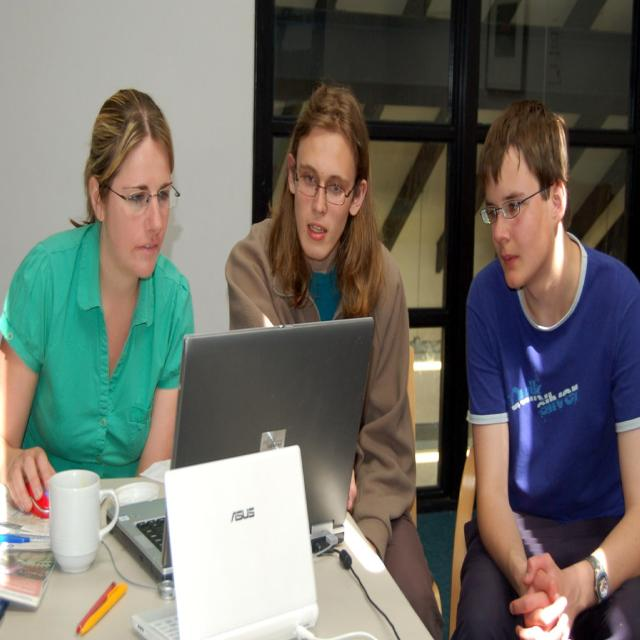Laptop: (106, 316, 371, 592), (132, 442, 321, 640)
